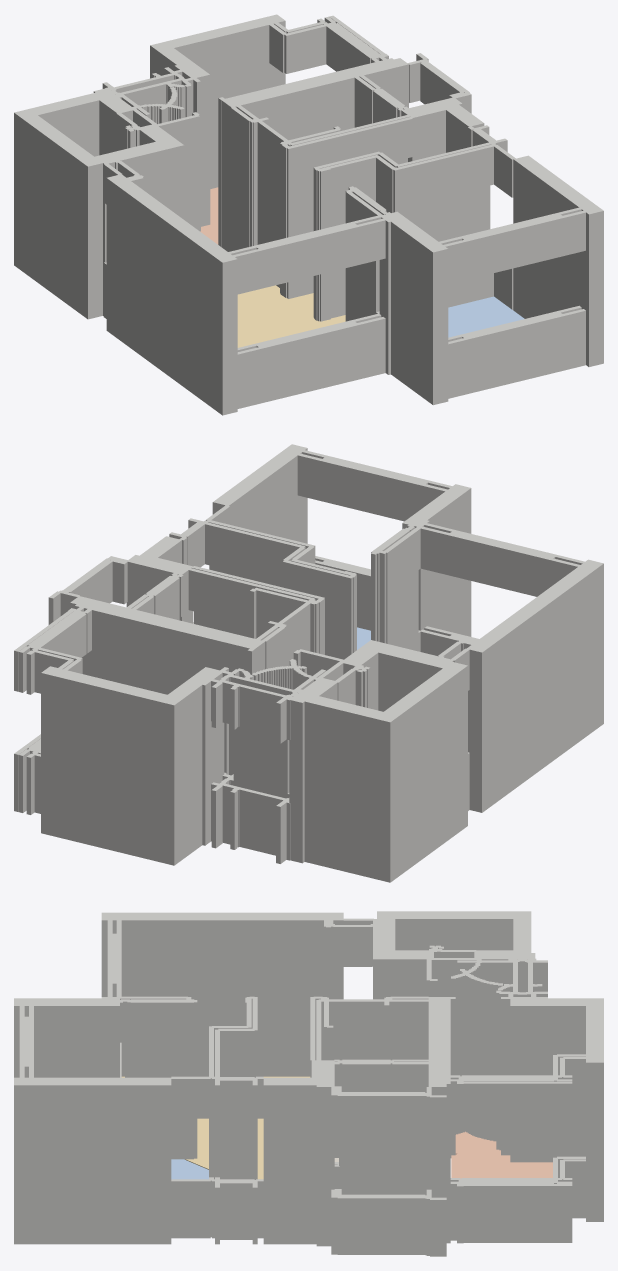
The picture shows the model from 3 angles, top to bottom: view 1: azimuth 30°, elevation 25°; view 2: azimuth 150°, elevation 25°; view 3: azimuth 270°, elevation 25°; orthographic projection. The views are drawn at different scales.
Parts seen in each view (by area): view 1: walls, room:living:2, room:bedroom:3, room:kitchen:0; view 2: walls; view 3: walls, room:kitchen:0, room:living:2, room:bedroom:3.
Boxes of the visible parts, x1=… form: walls: x1=14, y1=14, x2=603, y2=415; room:living:2: x1=237, y1=285, x2=345, y2=347; room:bedroom:3: x1=448, y1=296, x2=524, y2=337; room:kitchen:0: x1=200, y1=187, x2=218, y2=244; walls: x1=14, y1=444, x2=603, y2=882; walls: x1=14, y1=911, x2=603, y2=1256; room:kitchen:0: x1=451, y1=1131, x2=552, y2=1178; room:living:2: x1=121, y1=1076, x2=310, y2=1179; room:bedroom:3: x1=171, y1=1159, x2=208, y2=1179.
Bounding box in the file's own units: 7.02 × 2.8 × 9.4.
